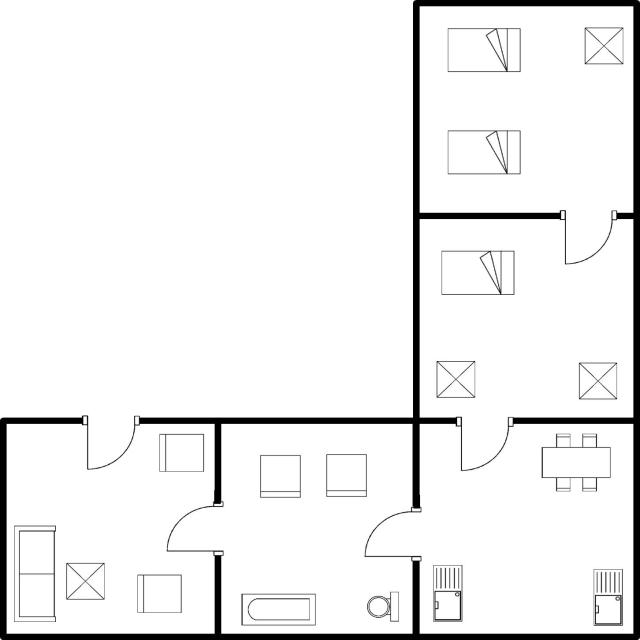bed: (442, 124, 525, 179), (436, 245, 519, 300), (442, 24, 525, 78)
coffee_table: (60, 558, 110, 605), (573, 358, 621, 406), (580, 23, 628, 71), (430, 356, 480, 400)
dining_table: (536, 430, 618, 496)
large_sink: (362, 585, 406, 625)
large_sofa: (10, 521, 60, 625)
sink: (429, 561, 466, 627), (589, 563, 626, 628)
small_sofa: (320, 449, 374, 502), (253, 451, 306, 502), (152, 430, 208, 478), (131, 569, 185, 618)
tub: (233, 588, 321, 629)
